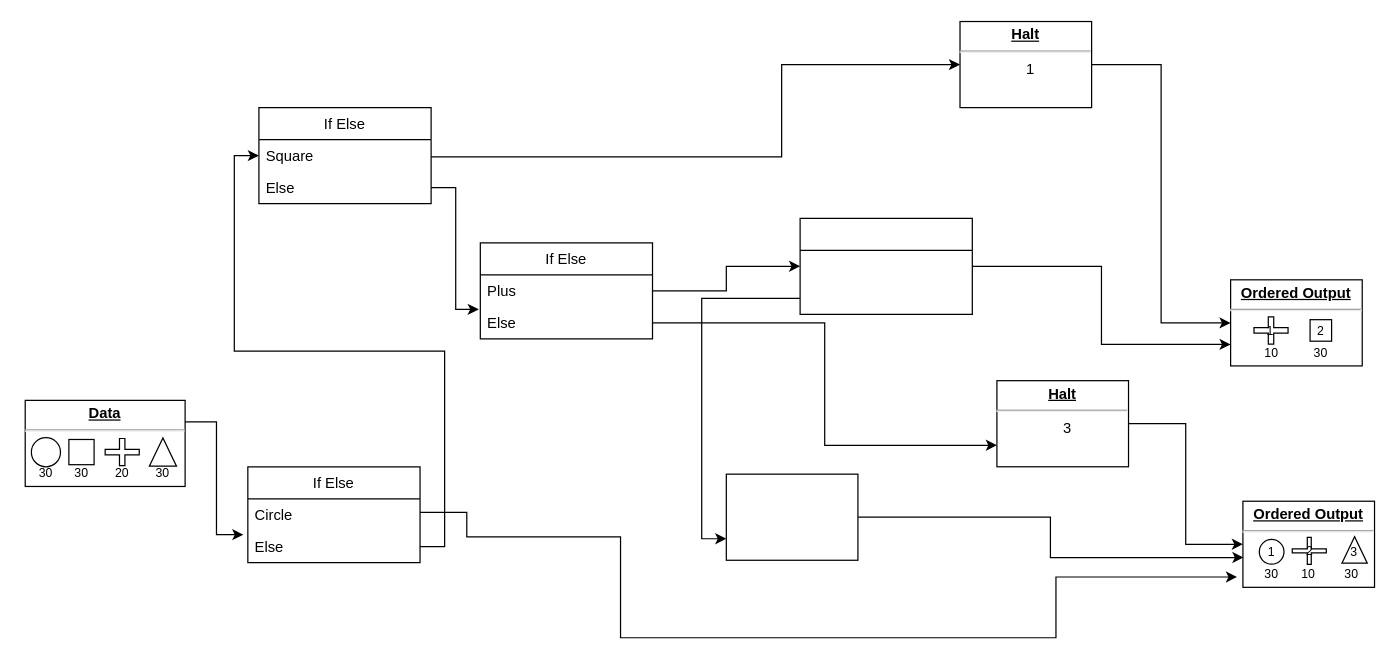
This 1396x669 diagram has some shape labels left out. Here are the shapes that lost their labels. From the top down, the centre of each, then its label:
At [885,265]: "Alternate".
At [791,516]: "Halt 2".
